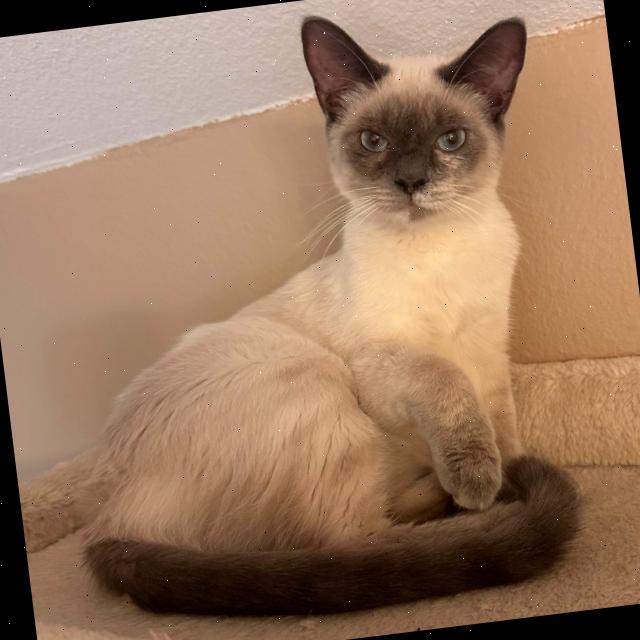siamese_cat: (290, 0, 552, 246)
